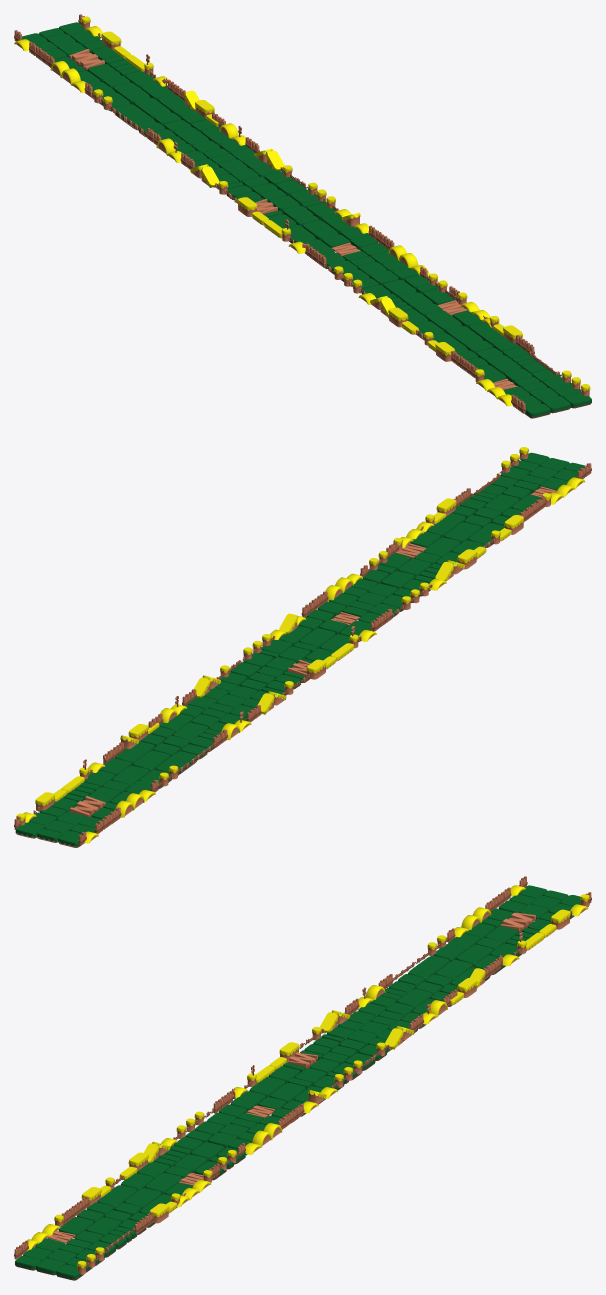
Rendered from platform.glb.
3 renders of one model, top to bottom at view 1: azimuth 30°, elevation 25°; view 2: azimuth 150°, elevation 25°; view 3: azimuth 330°, elevation 25°, orthographic.
Visible parts, largest first — view 1: platform.004; view 2: platform.004; view 3: platform.004.
Part boxes in pixels (left/top/right/bottom): platform.004: left=14, top=14, right=591, bottom=418; platform.004: left=14, top=447, right=591, bottom=847; platform.004: left=14, top=876, right=591, bottom=1280.
Bounding box in the file's own units: 7.95 × 2.62 × 90.66.
16 materials, 13 textured.
